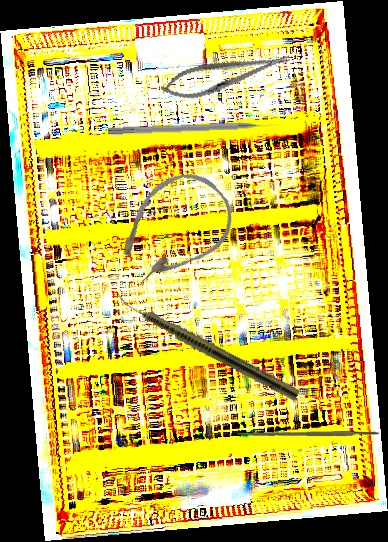Cannula: (98, 156, 248, 302)
Handpiece: (109, 289, 302, 403)
Needle Holder: (158, 43, 294, 107)
Pusher: (107, 120, 283, 138)
Scalpel Handle: (236, 431, 380, 437)
